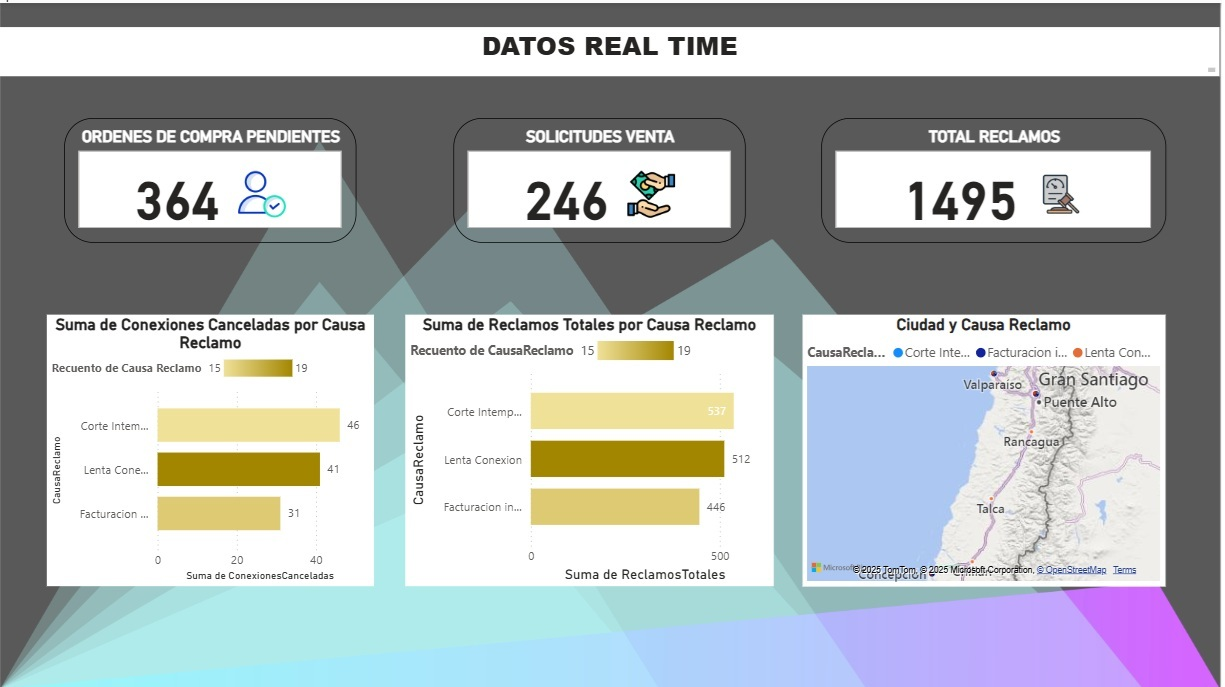

The page's visual inventory and layout, read from the dashboard file:
{"tool":"powerbi","page":{"name":"Página 1","canvas":[1280,720],"ordinal":0},"visuals":[{"type":"cardVisual","title":"ORDENES DE COMPRA PENDIENTES","fields":{"Data":["Sum(datos_ventas_directquery.OrdenesInstPendientes)"]},"box":[67.4,120.7,306.5,130.6],"z":0},{"type":"cardVisual","title":"SOLICITUDES VENTA","fields":{"Data":["Sum(datos_ventas_directquery.SolicitudesVE)"]},"box":[476,120.7,306.5,130.6],"z":1000},{"type":"cardVisual","title":"TOTAL RECLAMOS","fields":{"Data":["Sum(datos_ventas_directquery.ReclamosTotales)"]},"box":[860.8,120.6,361.8,130.6],"z":2000},{"type":"clusteredBarChart","title":"Suma de Conexiones Canceladas por Causa Reclamo","fields":{"Category":["datos_ventas_directquery.CausaReclamo"],"Y":["Sum(datos_ventas_directquery.ConexionesCanceladas)"]},"box":[48.6,326.6,343.3,284.7],"z":3000},{"type":"clusteredBarChart","title":"Suma de Reclamos Totales por Causa Reclamo","fields":{"Category":["datos_ventas_directquery.CausaReclamo"],"Y":["Sum(datos_ventas_directquery.ReclamosTotales)"]},"box":[425.3,326.5,386.5,285.2],"z":4000},{"type":"textbox","title":"DATOS  REAL TIME","box":[0,25.1,1279.5,51.9],"z":5000},{"type":"map","title":"Ciudad y Causa Reclamo","fields":{"Category":["datos_ventas_directquery.Ciudad"],"Series":["datos_ventas_directquery.CausaReclamo"]},"box":[842.4,326.6,380.2,284.7],"z":5001}]}

Visuals, with their boxes in screenshot pixels (x1, y1, x2, y2), scaled from the page's 1280x720 canvas onto the 1225x687 screenshot:
"ORDENES DE COMPRA PENDIENTES" cardVisual: 65,115,358,240
"SOLICITUDES VENTA" cardVisual: 456,115,749,240
"TOTAL RECLAMOS" cardVisual: 824,115,1170,240
"Suma de Conexiones Canceladas por Causa Reclamo" clusteredBarChart: 47,312,375,583
"Suma de Reclamos Totales por Causa Reclamo" clusteredBarChart: 407,312,777,584
"DATOS  REAL TIME" textbox: 0,24,1224,73
"Ciudad y Causa Reclamo" map: 806,312,1170,583
